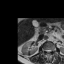CCS_stenosis: (47, 48, 49, 54)
LFS_stenosis: (51, 48, 52, 52)
LLS_normal: (49, 48, 51, 53)
RFS_stenosis: (44, 48, 46, 52)
RLS_stenosis: (45, 48, 47, 53)
